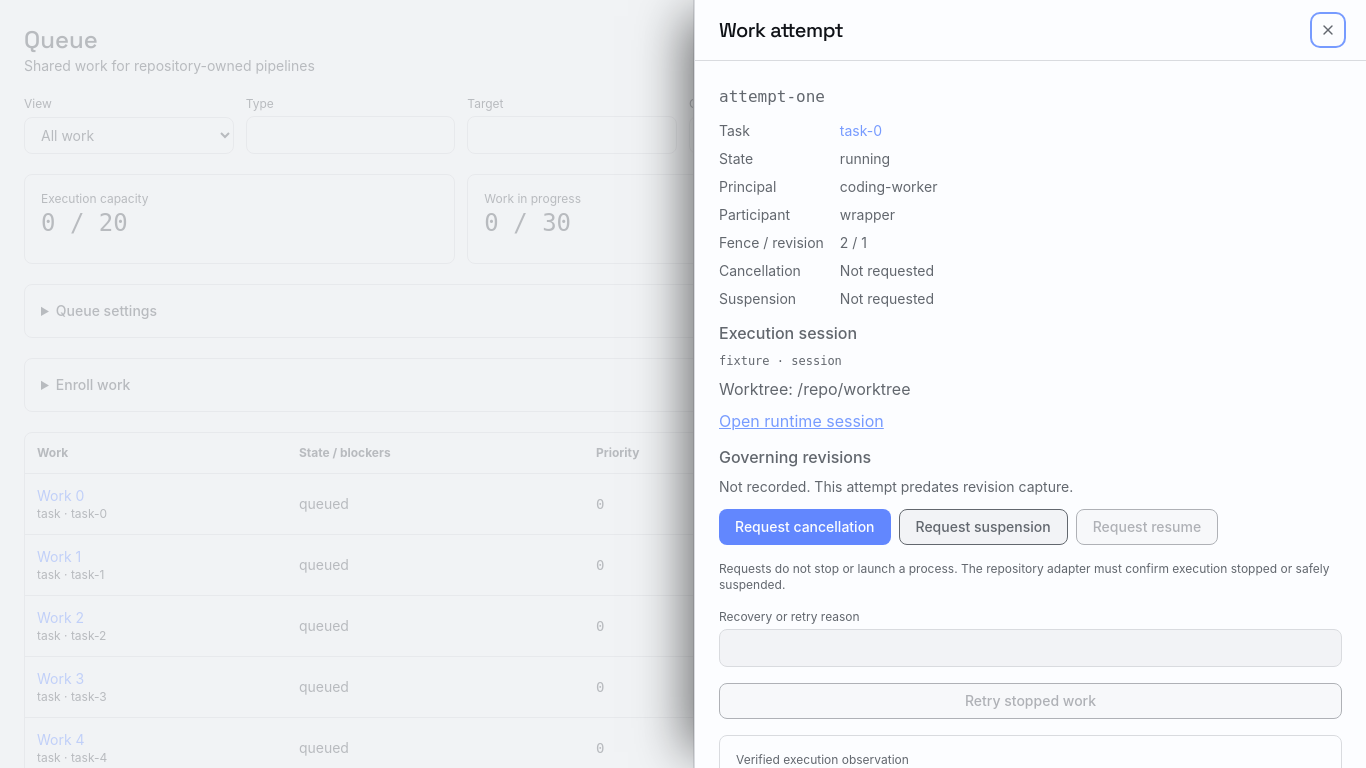
Test case: shows the server's refusal when authority cannot be checked locally
Expected: the link "Open runtime session" is shown, top-left (719, 411), bottom-right (884, 431)
Click the button "Request cancellation". click: (805, 527)
box: top-left (719, 509), bottom-right (890, 545)
(page scrolled)
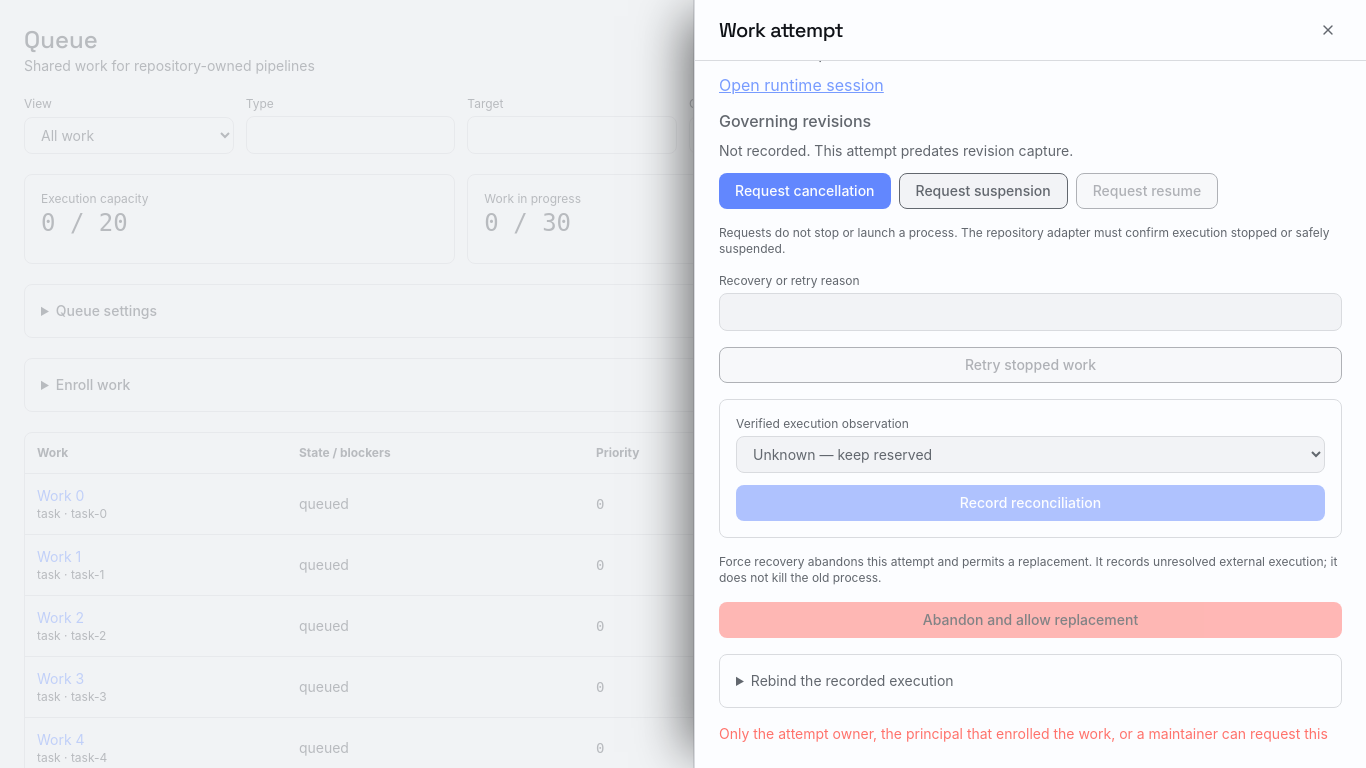
Expected: the message shows "Only the attempt owner, the principal that enrolled the work, or a maintainer", top-left (719, 725), bottom-right (1328, 742)
